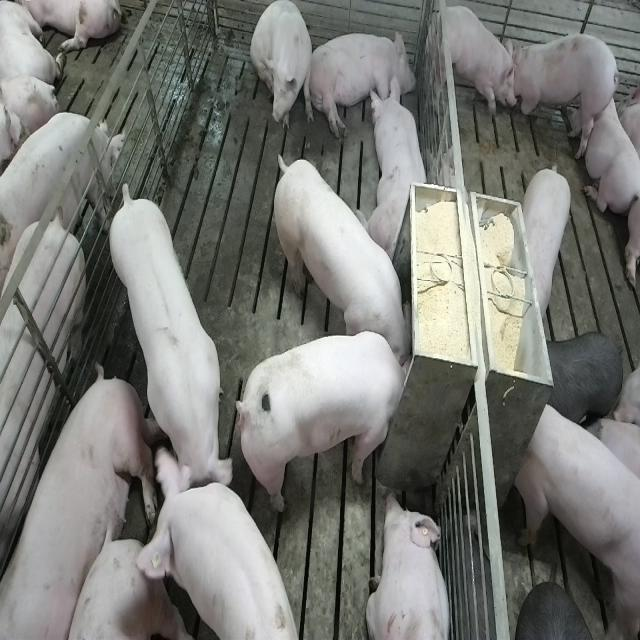Feeding: (244, 330, 418, 516), (269, 146, 411, 363)
Lateral_lying: (3, 366, 158, 640), (307, 26, 417, 140)
Sitting: (251, 2, 315, 140)
Standing: (107, 182, 237, 513), (0, 213, 88, 592), (133, 451, 295, 640), (516, 396, 638, 634), (0, 107, 120, 274), (511, 28, 620, 157), (430, 4, 519, 130), (522, 161, 574, 324), (544, 328, 622, 424)
Sternal_lying: (366, 489, 454, 640), (362, 75, 432, 259), (580, 79, 639, 214)
